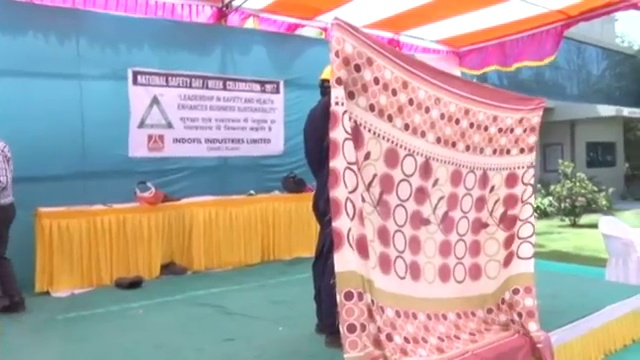person: (301, 63, 346, 353), (1, 139, 26, 316)
